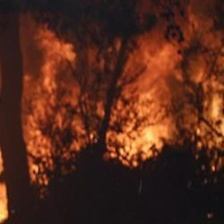fire: (11, 16, 224, 180)
